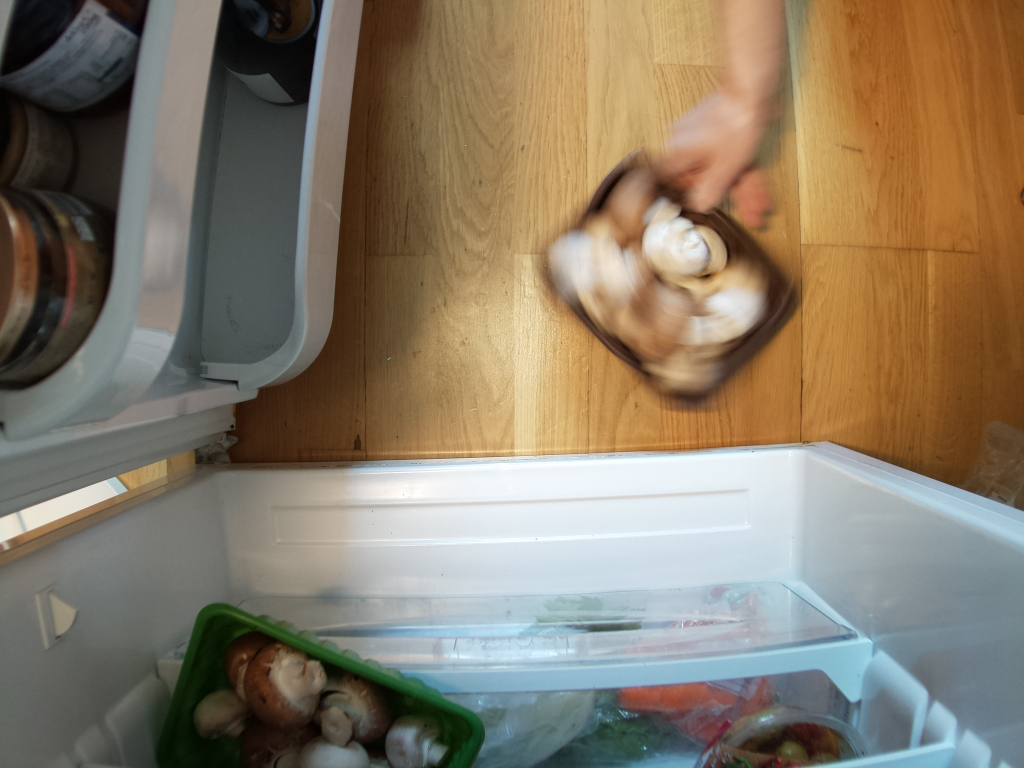mushrooms: (550, 163, 797, 411), (150, 604, 478, 768)
